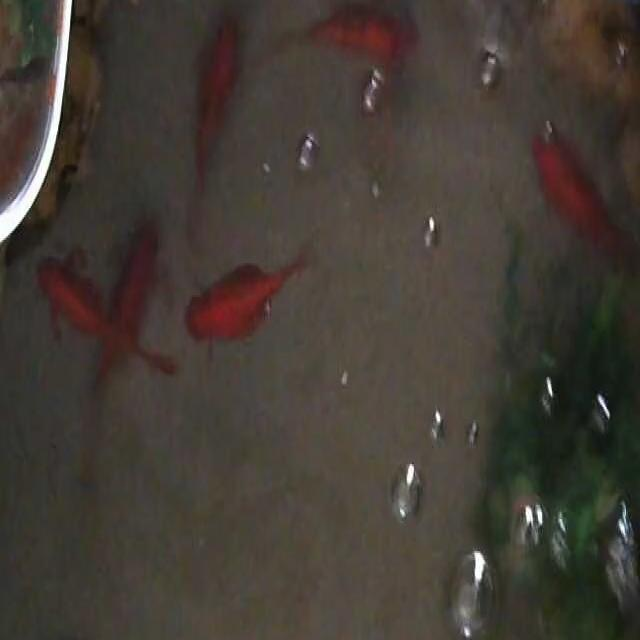fish: (36, 242, 176, 390), (529, 119, 640, 274), (183, 246, 317, 357), (106, 218, 172, 422), (289, 0, 423, 73), (193, 7, 243, 192)
